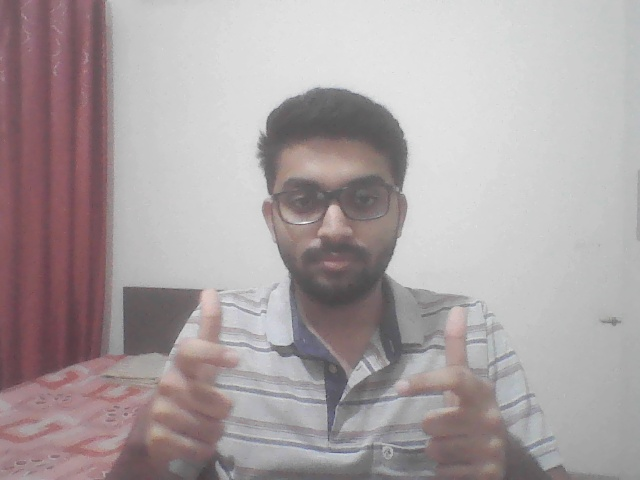big: (108, 290, 546, 476)
